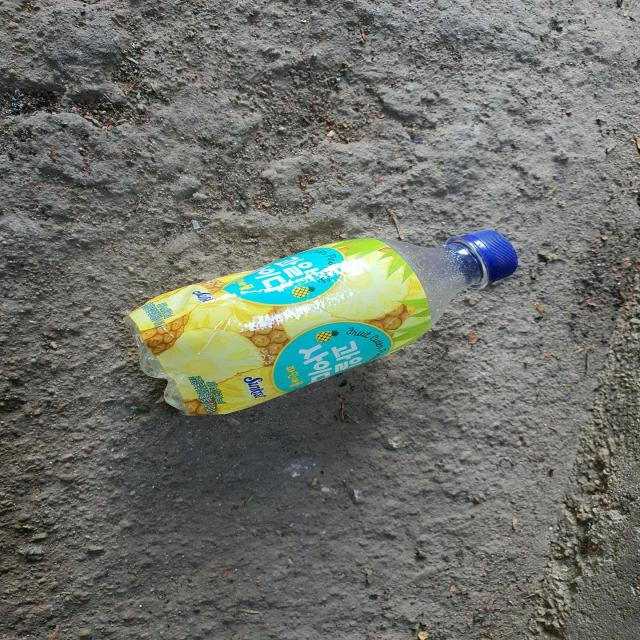plastic: (125, 230, 518, 416)
